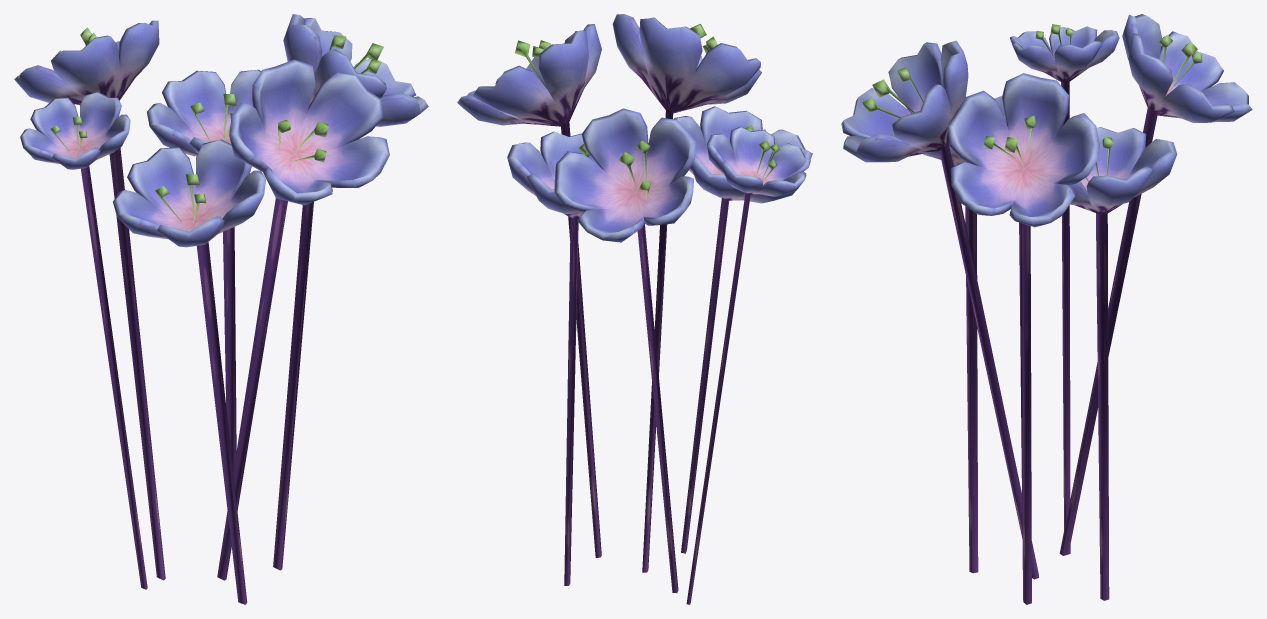
The model's file is n_SWFgogra06c.glb.
3 renders of one model, left to right at view 1: azimuth 30°, elevation 25°; view 2: azimuth 150°, elevation 25°; view 3: azimuth 270°, elevation 25°, orthographic. The views are drawn at different scales.
Parts seen in each view (by area): view 1: n_SWFgogra06c; view 2: n_SWFgogra06c; view 3: n_SWFgogra06c.
Part boxes in pixels (bbox=[...]): n_SWFgogra06c: bbox=[14, 14, 428, 604]; n_SWFgogra06c: bbox=[457, 14, 812, 604]; n_SWFgogra06c: bbox=[841, 14, 1252, 604].
Bounding box in the file's own units: 0.5758 × 0.8139 × 0.5556.
Materials: 1 (1 with a texture image).
